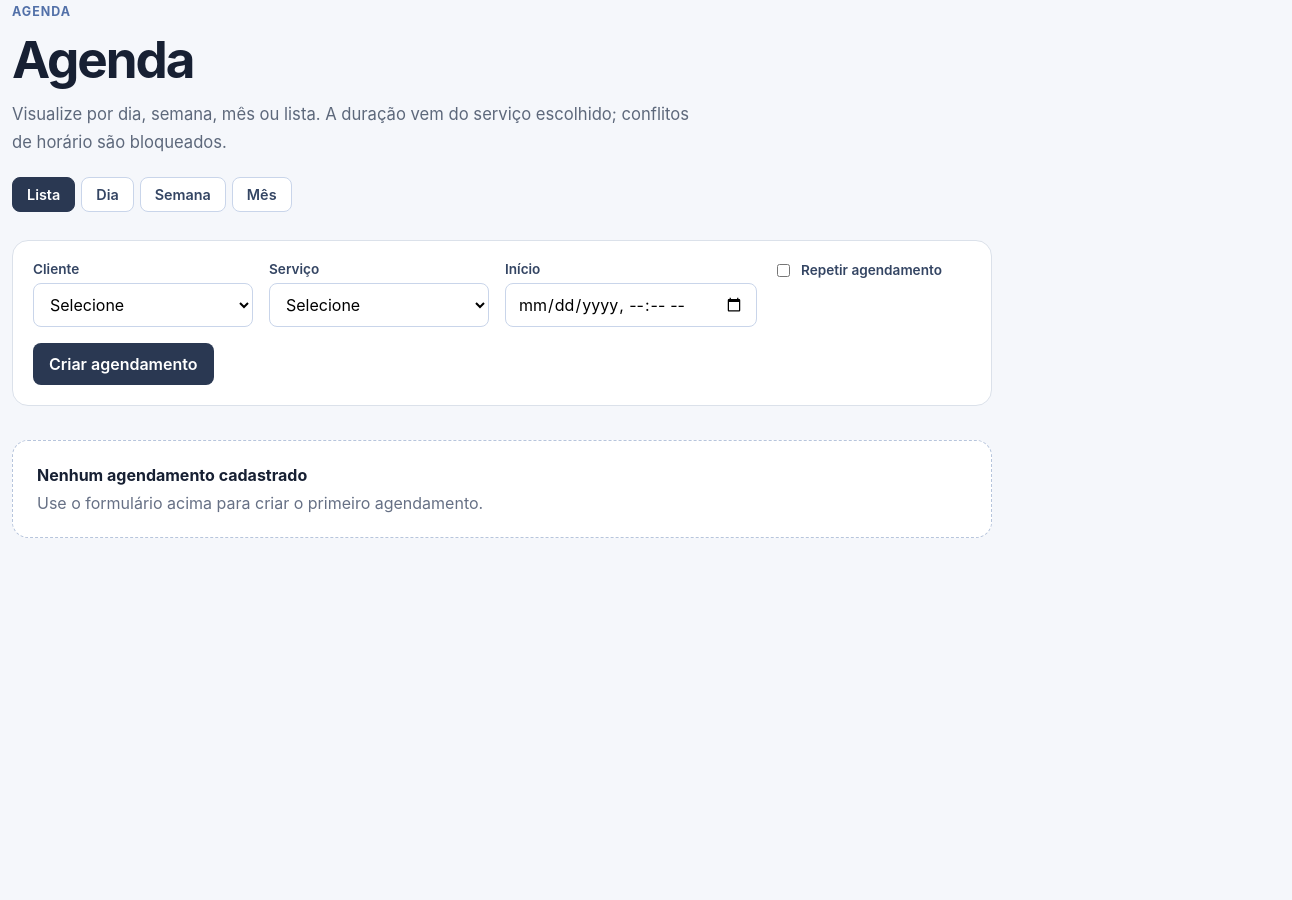
Test: AgendaPageComponent › creates a recurring series when "Repetir agendamento" is checked
Select "Fulana de Tal" in the dropdown with id "clientId" at (143, 305), box x1=33 y1=283 x2=253 y2=327
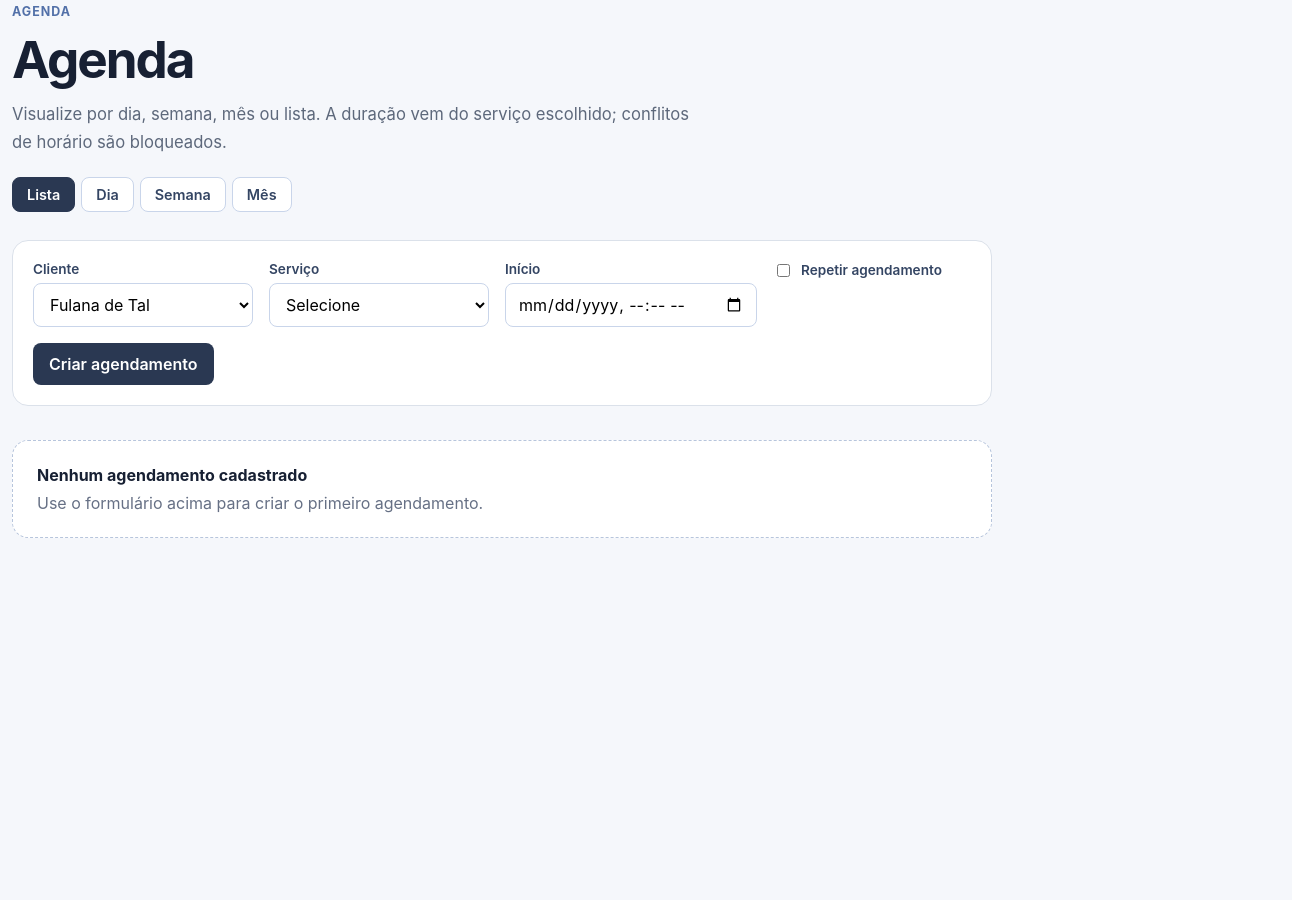
Select "Corte (30 min)" in the dropdown with id "serviceId" at (379, 305), box x1=269 y1=283 x2=489 y2=327
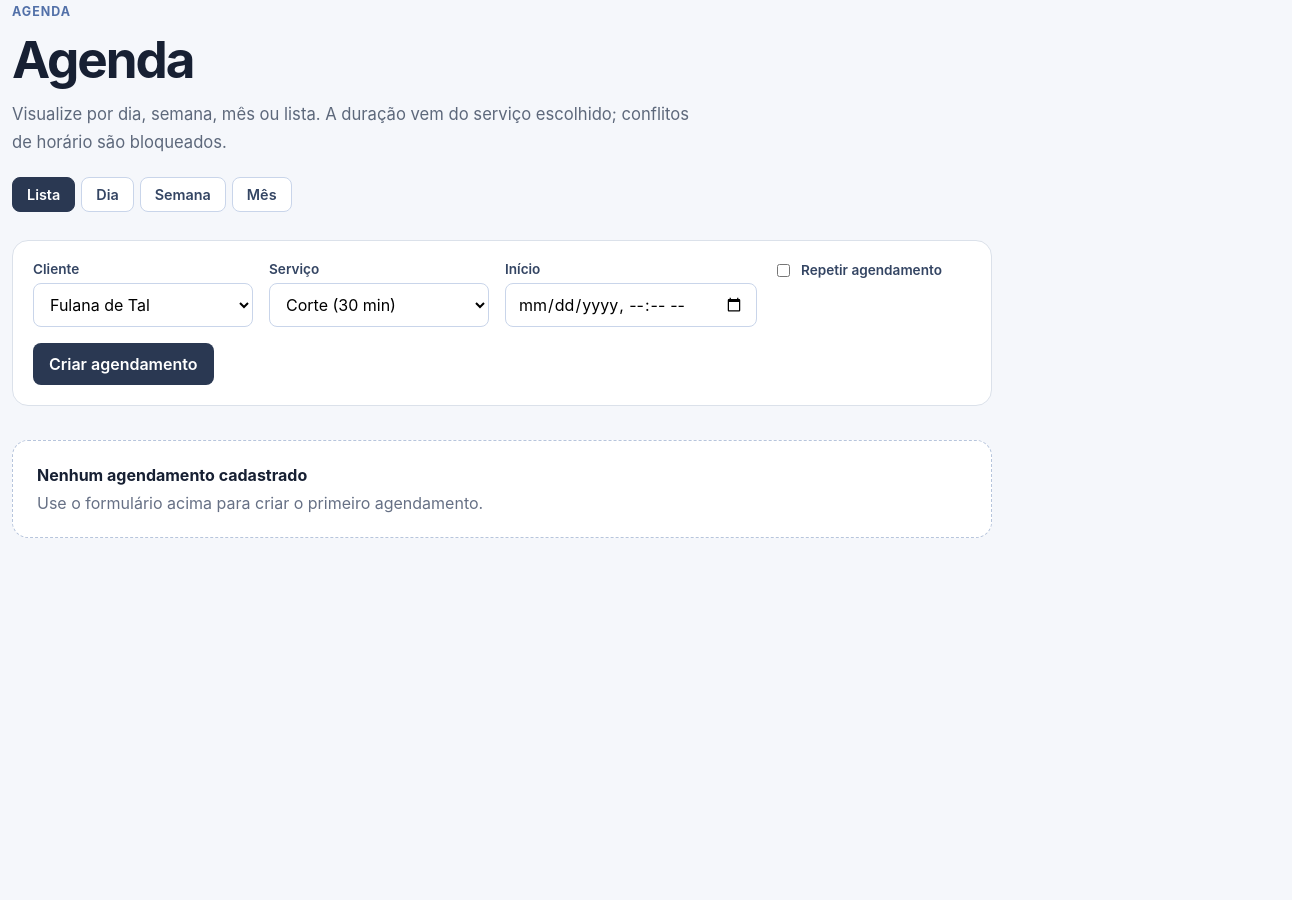
Type "2026-08-01T10:00" into the field with id "startAt" at (631, 305), box x1=505 y1=283 x2=757 y2=327
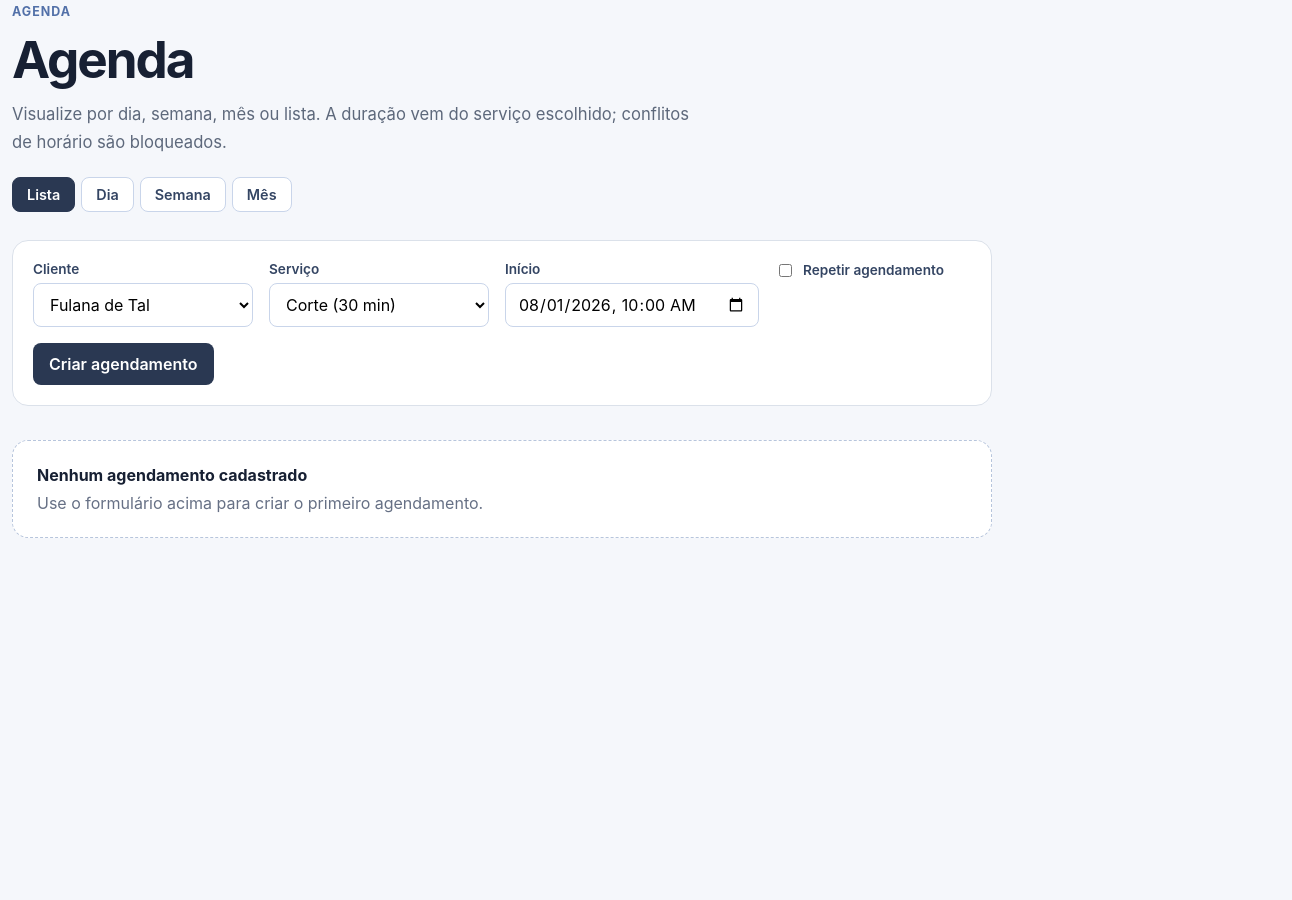
Click the checkbox with id "repeats" at (786, 270), box x1=779 y1=264 x2=792 y2=277
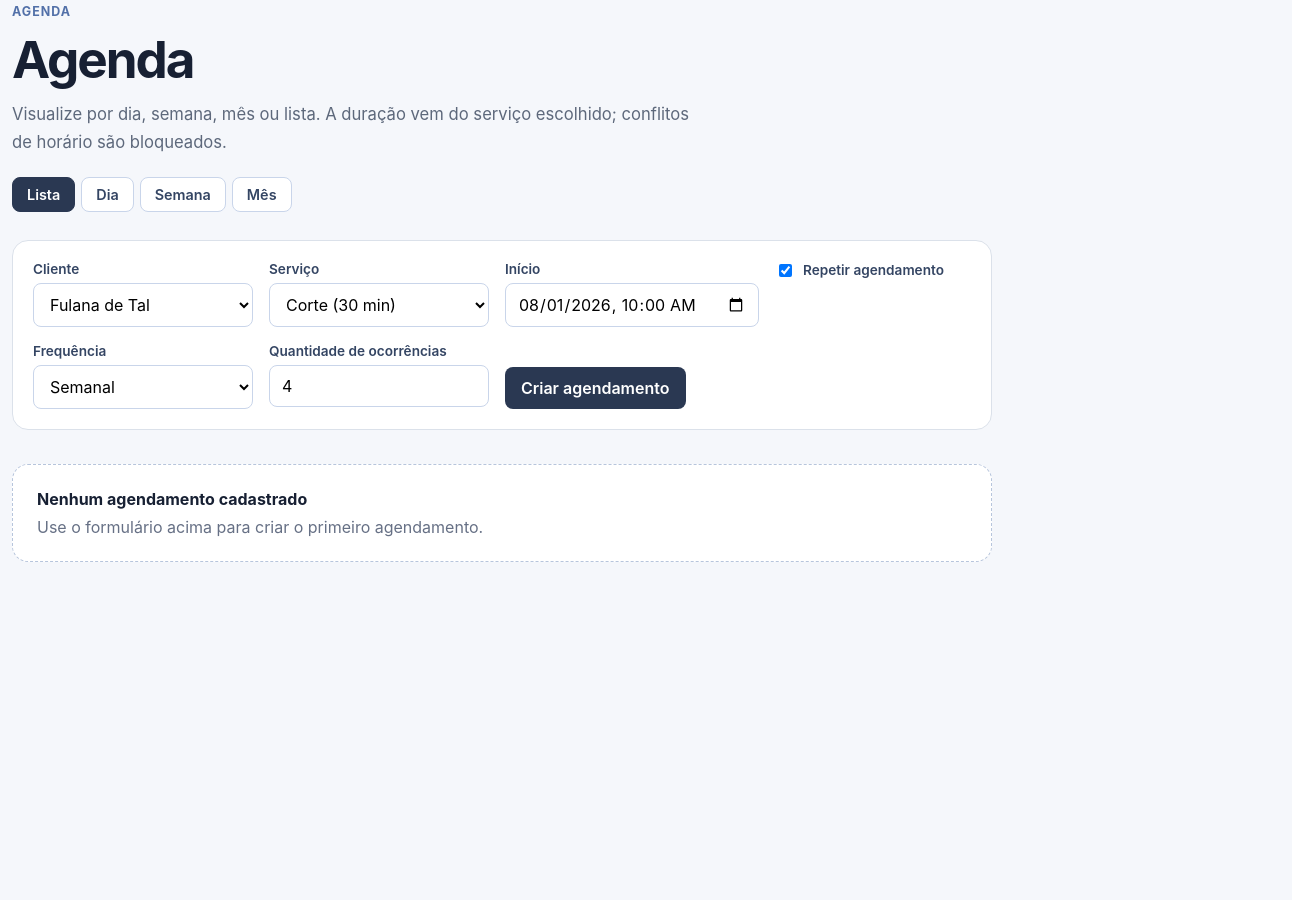
Replace the text in the number field with id "occurrenceCount" with "3" at (379, 386), box x1=269 y1=365 x2=489 y2=407
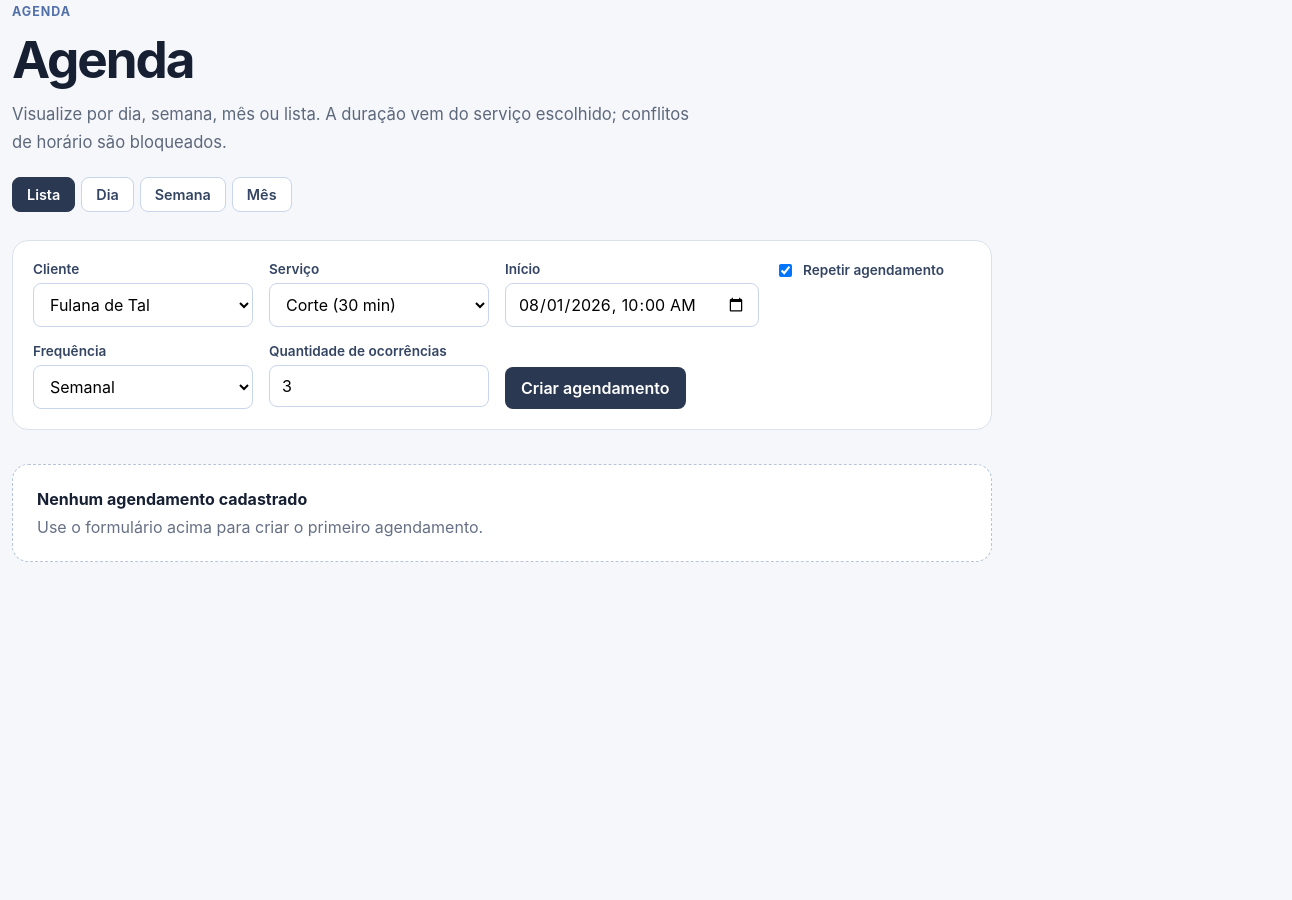
Submit the form, box x1=12 y1=240 x2=992 y2=430
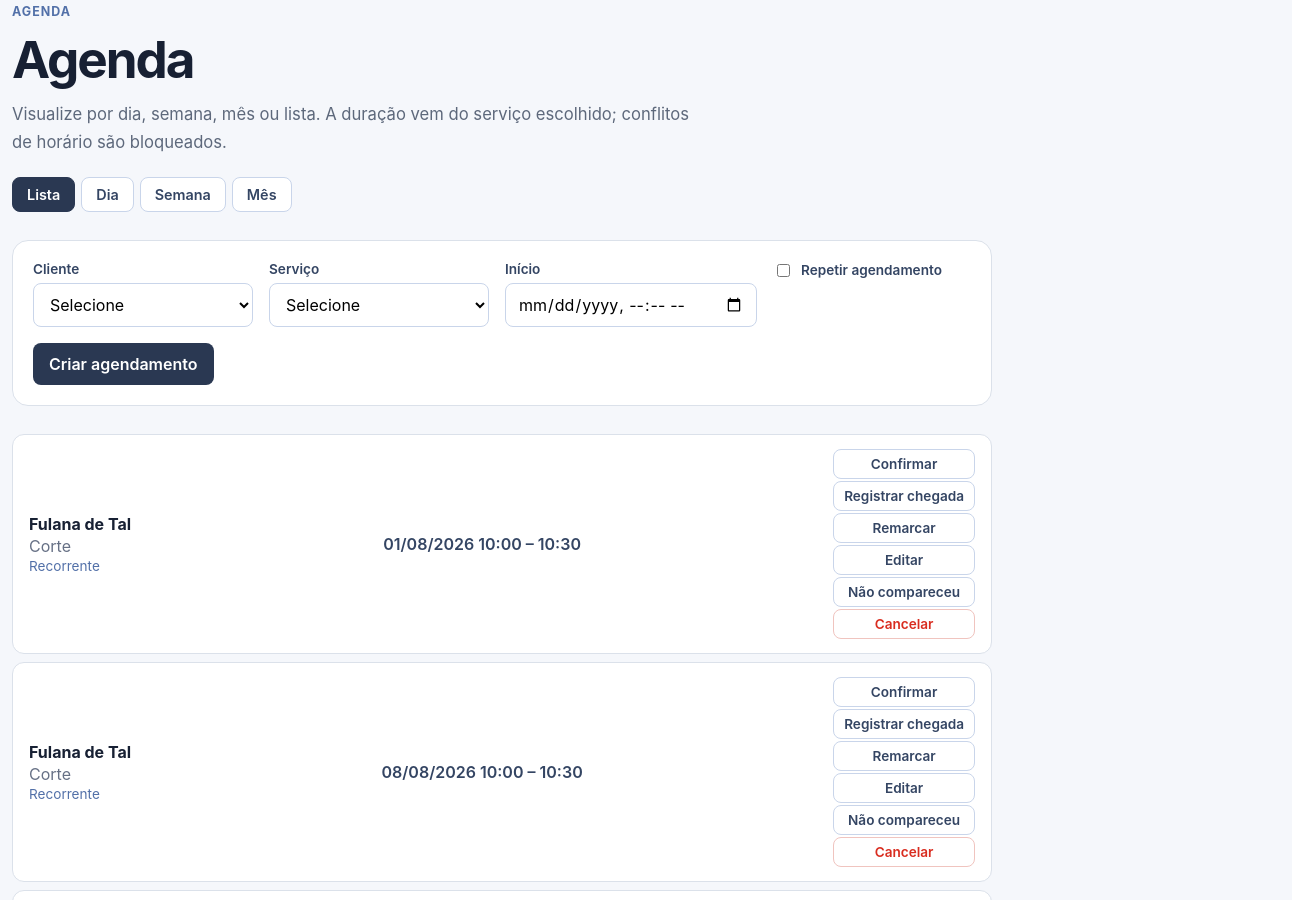
expect the number of elements with class "appointment-status--recurring" is 3: met
